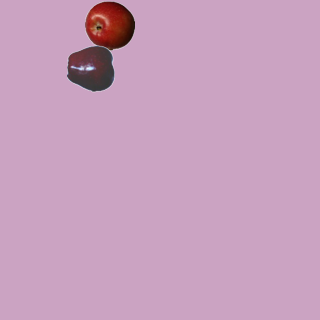Apple Braeburn: (84, 0, 134, 50)
Apple Red Delicious: (66, 43, 116, 93)
